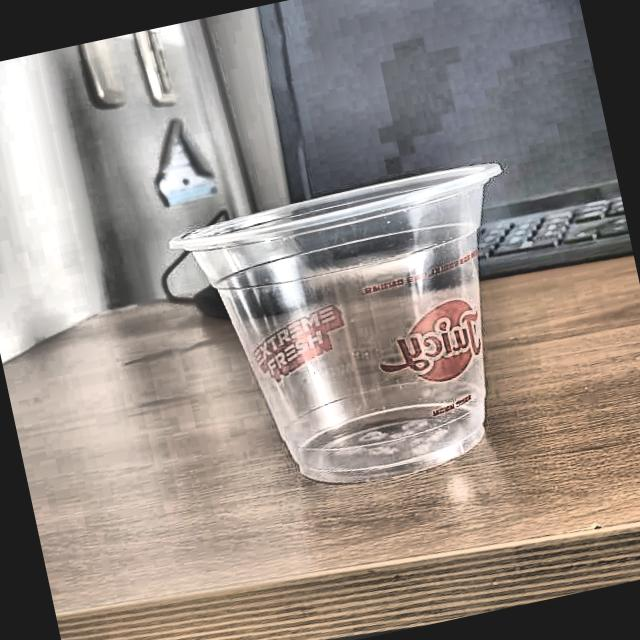plastic cup: (162, 153, 564, 516)
